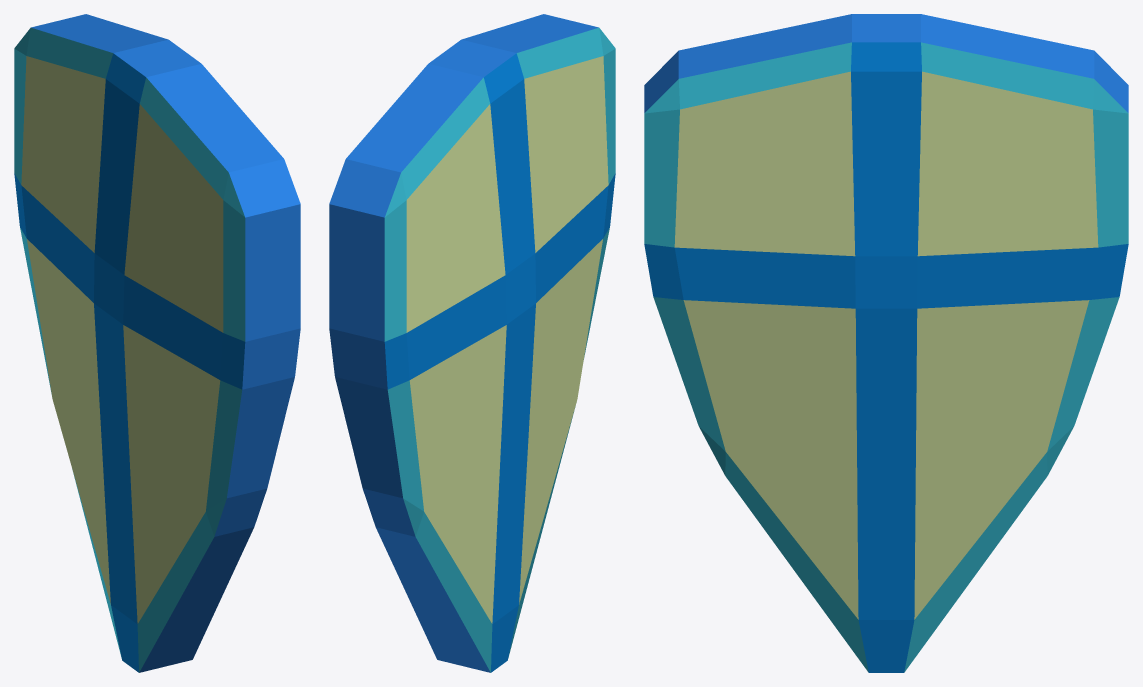
Rendered from Shield.fbx.
3 renders of one model, left to right at view 1: azimuth 30°, elevation 25°; view 2: azimuth 150°, elevation 25°; view 3: azimuth 270°, elevation 25°, orthographic. The views are drawn at different scales.
Visible parts, largest first — view 1: Cube; view 2: Cube; view 3: Cube.
Part boxes in pixels (x1,y1,x2,y2): Cube: (14, 14, 300, 672); Cube: (329, 14, 615, 672); Cube: (644, 14, 1128, 672).
Size of the model in its own units: 58.04 by 341 by 237.
